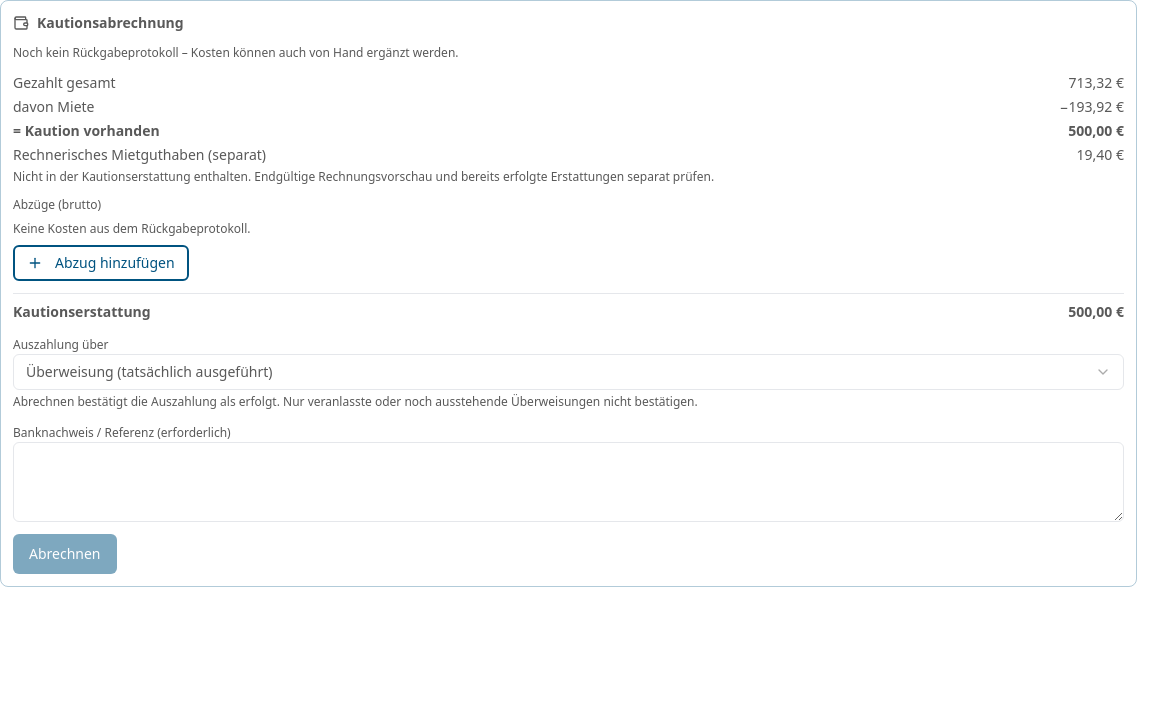
Test case: a manual transfer cannot be confirmed without its bank reference
The width and height of the screenshot is (1152, 720).
Later steps or results of the test are not shown.
Expected: the button "Abrechnen" is disabled, x1=13 y1=534 x2=116 y2=574
Type "Bankbeleg Fixture" into the text box. click: (568,482)
box: x1=13 y1=442 x2=1124 y2=522
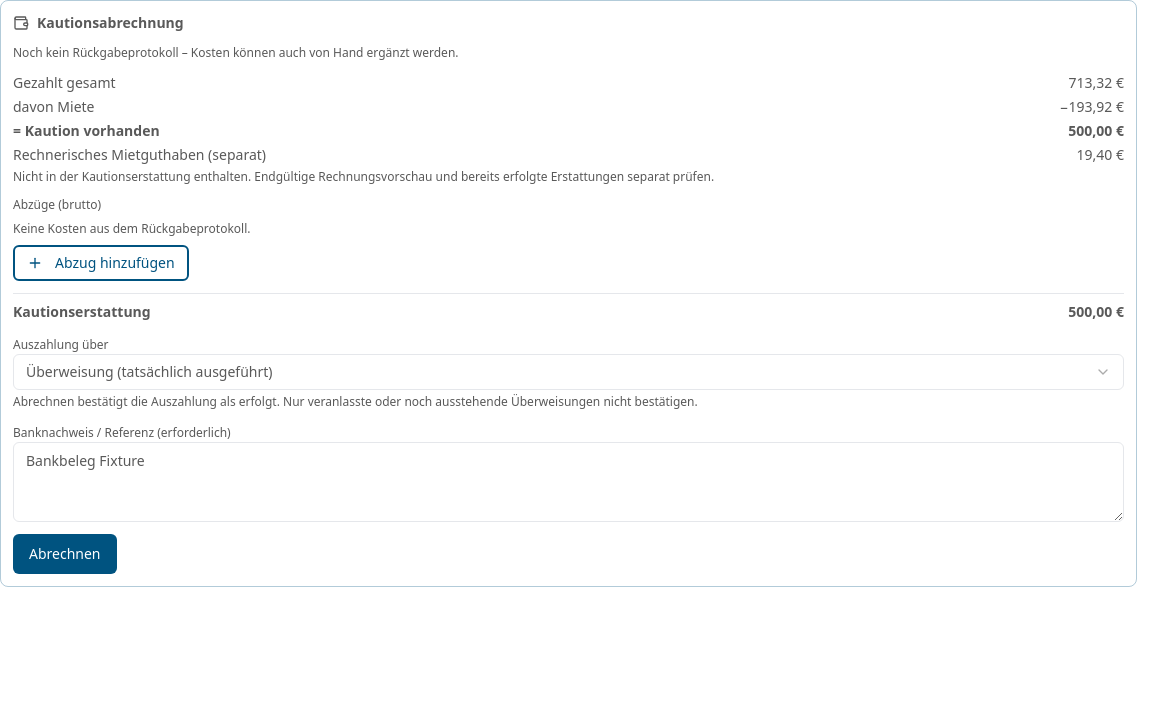
Expected: the button "Abrechnen" is enabled, x1=13 y1=534 x2=116 y2=574
